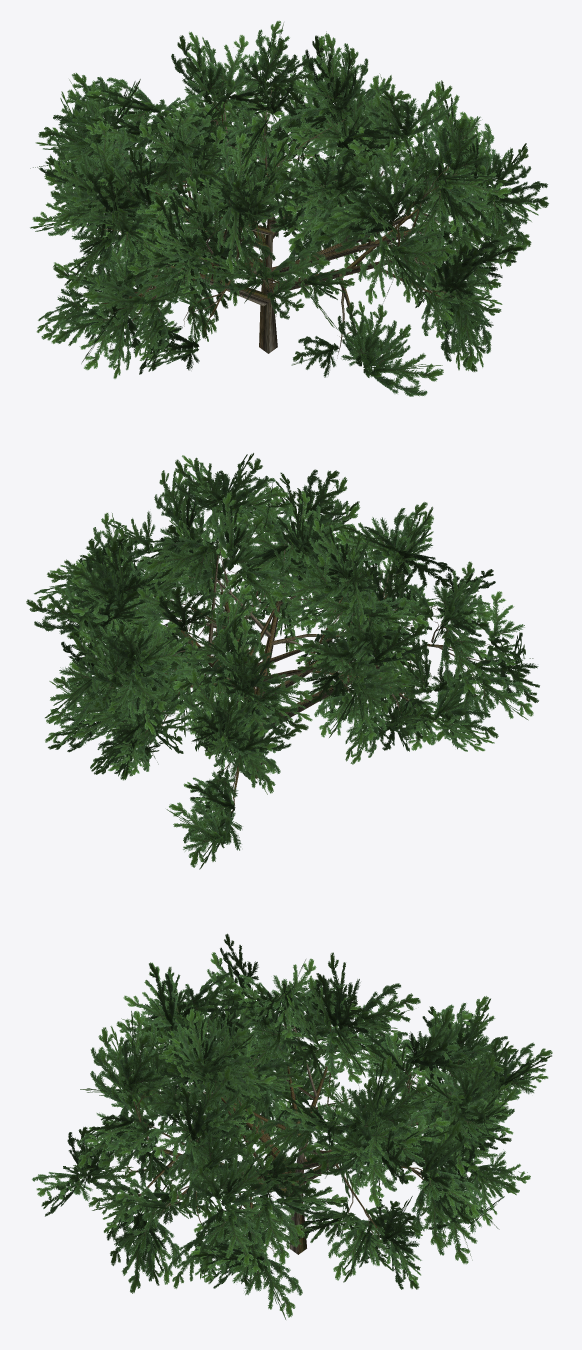
Rendered from bush (2).glb.
The picture shows the model from 3 angles, top to bottom: view 1: azimuth 30°, elevation 25°; view 2: azimuth 150°, elevation 25°; view 3: azimuth 270°, elevation 25°; orthographic projection. The views are drawn at different scales.
Visible parts, largest first — view 1: Tree; view 2: Tree; view 3: Tree.
Boxes of the visible parts, x1,y1,x2,y2 form: Tree: [30, 20, 548, 396]; Tree: [26, 453, 539, 869]; Tree: [32, 933, 552, 1319].
Size of the model in its own units: 33.17 by 20.84 by 31.42.
Materials: 2 (2 with a texture image).
